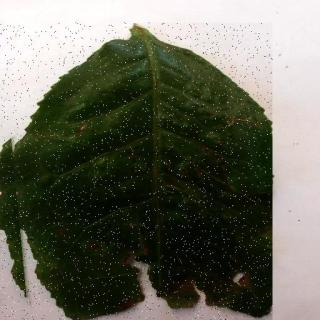Algal Leaf: (1, 23, 273, 320)
